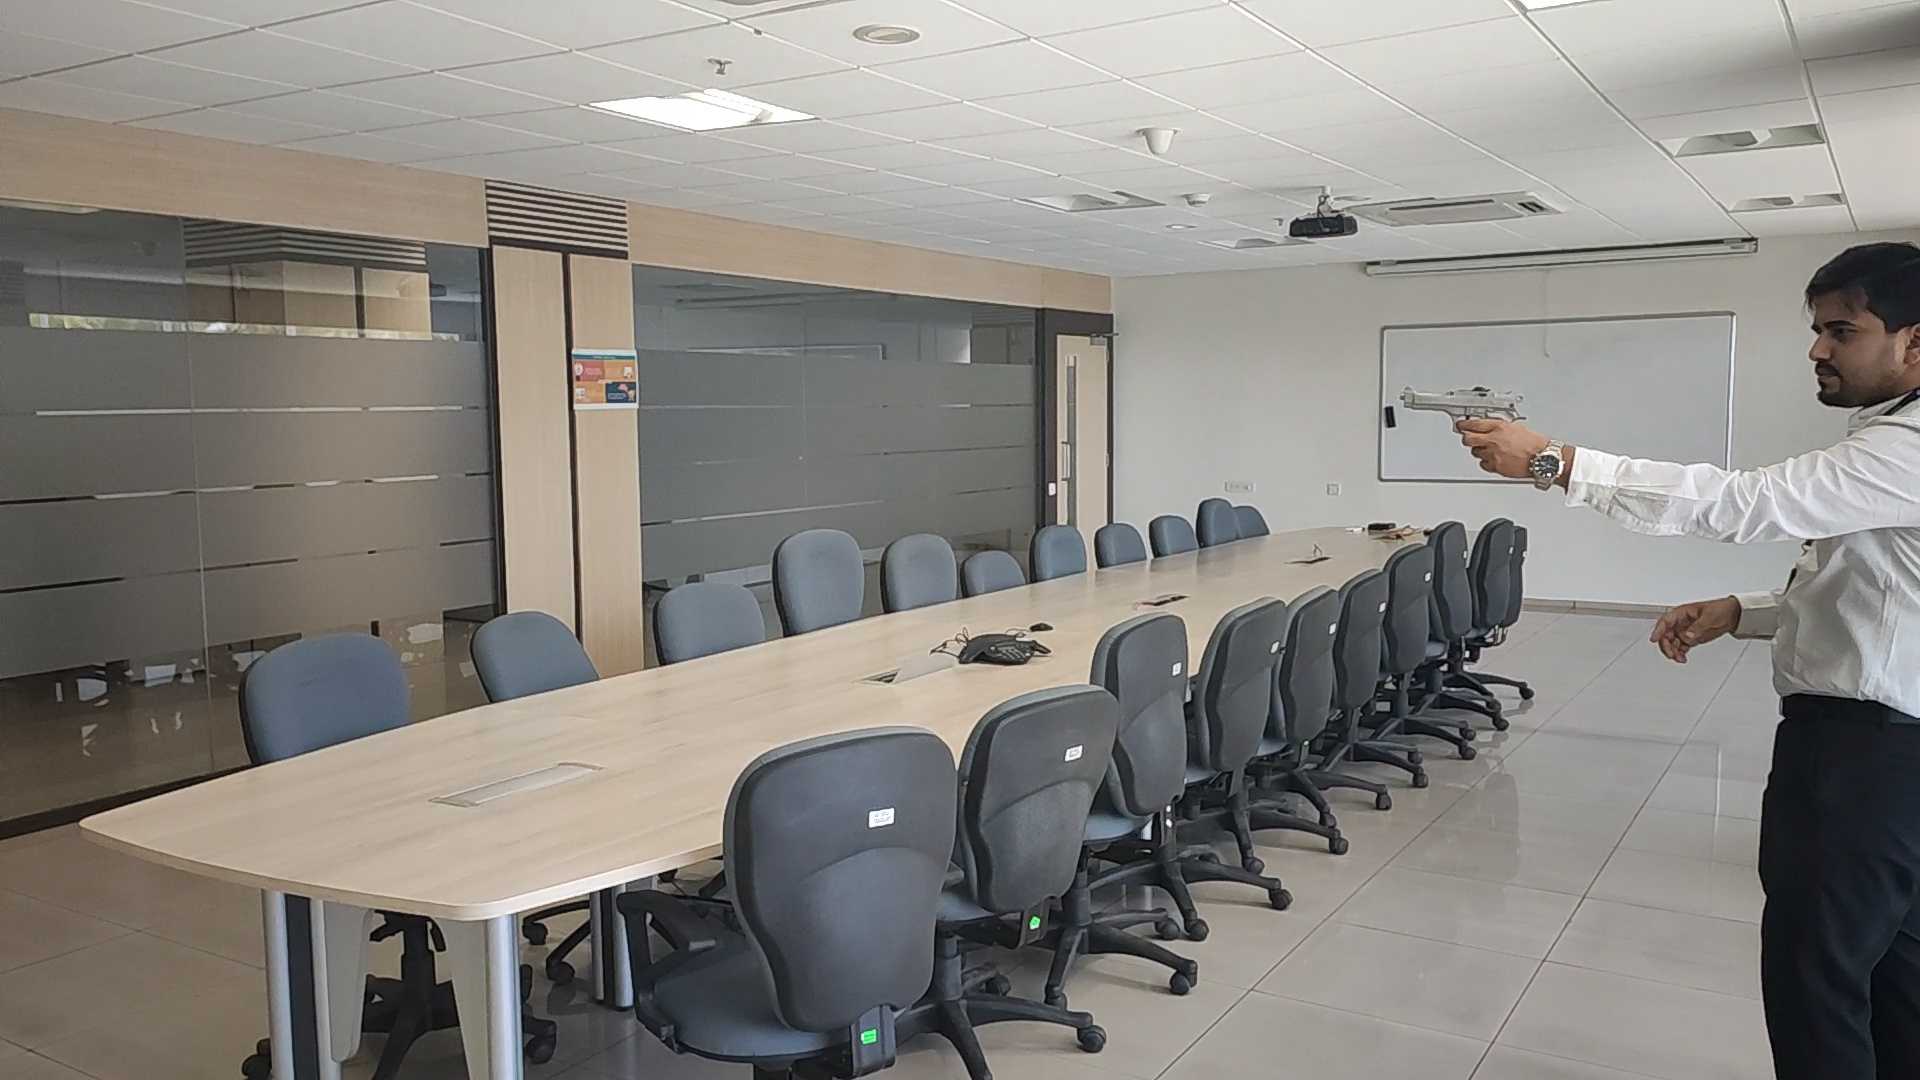gun: (1398, 382, 1528, 429)
